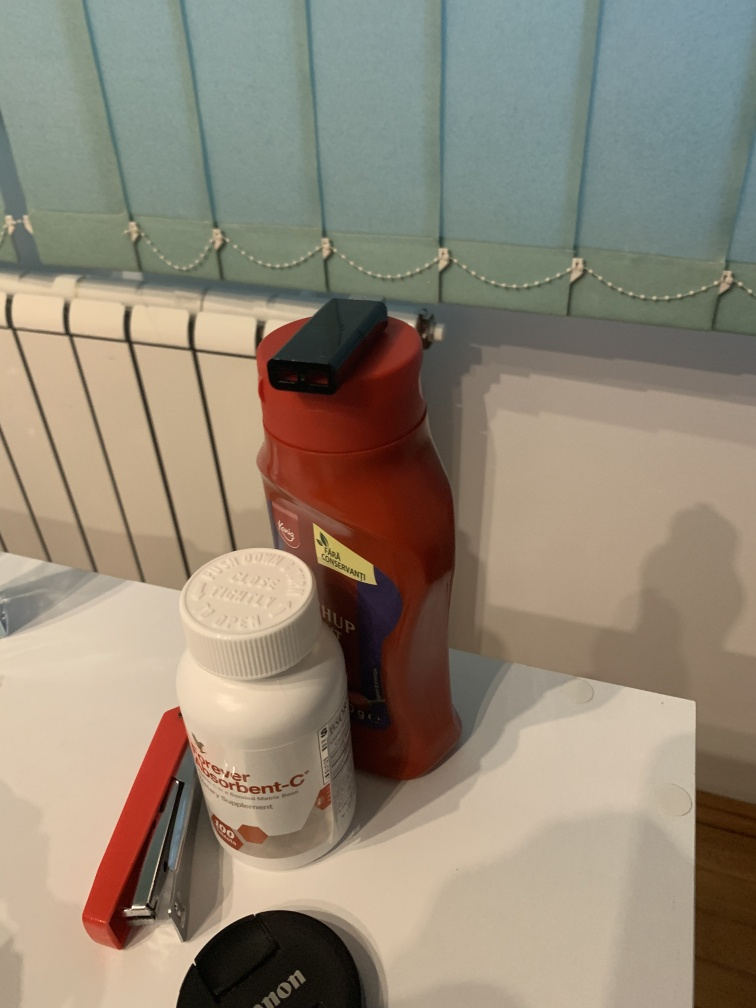ketchup: (247, 310, 473, 790)
